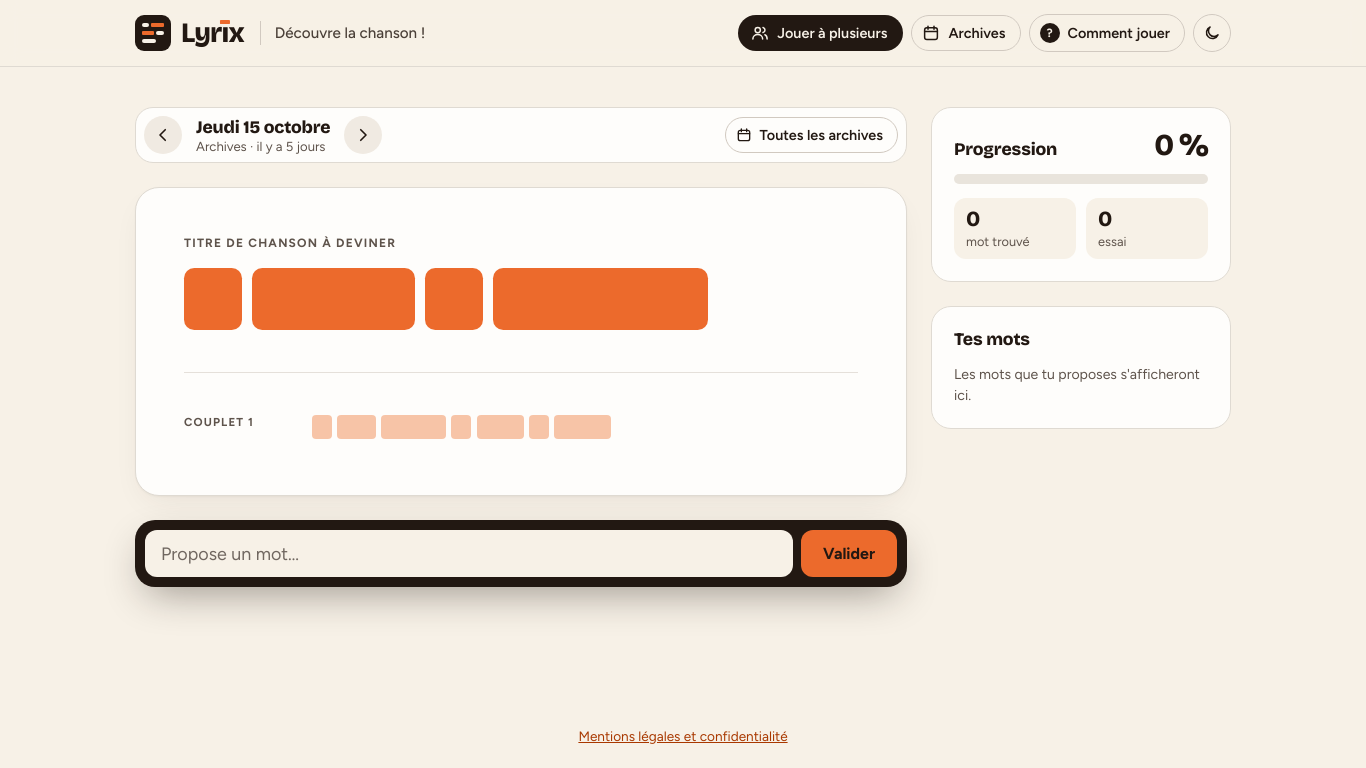
Scenario: the header's logo › goes from a day of the archives to today's song
Expected: the text "Jeudi 15 octobre" is shown, [196,116,330,138]
Click the link named "Lyrix, chanson du jour": [189, 33] box [135,15,244,51]
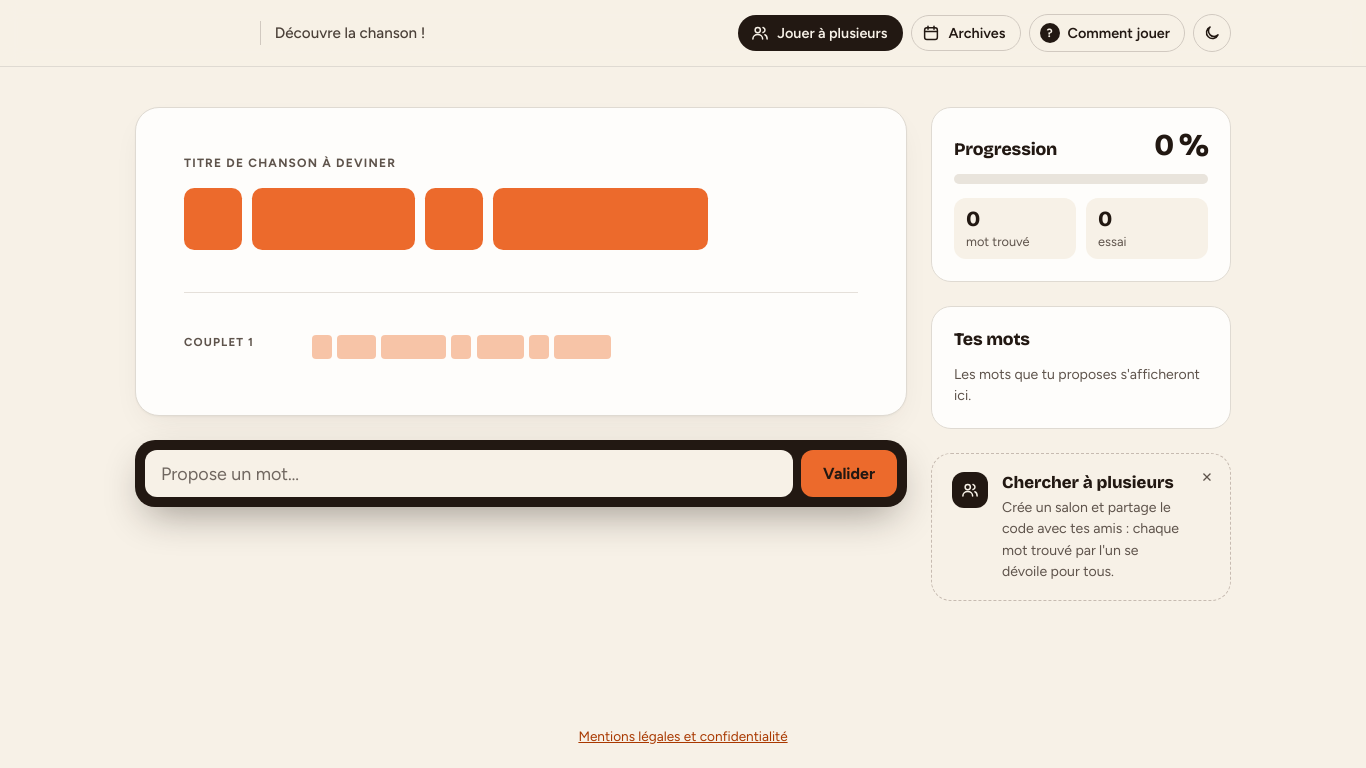
Expected: the field with placeholder "Propose un mot…" is shown, [145,450,793,497]
Result: the text "Jeudi 15 octobre" is gone
